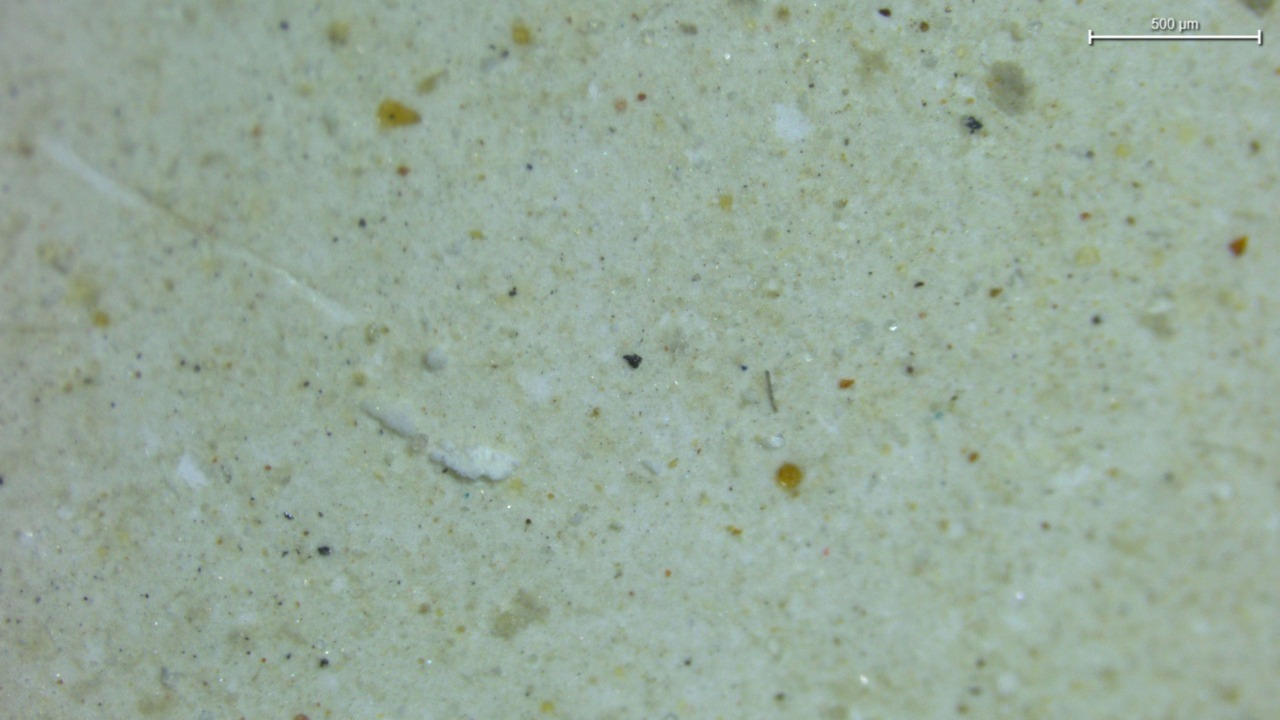microplastic_fragment: (429, 443, 519, 481), (362, 401, 417, 437)
